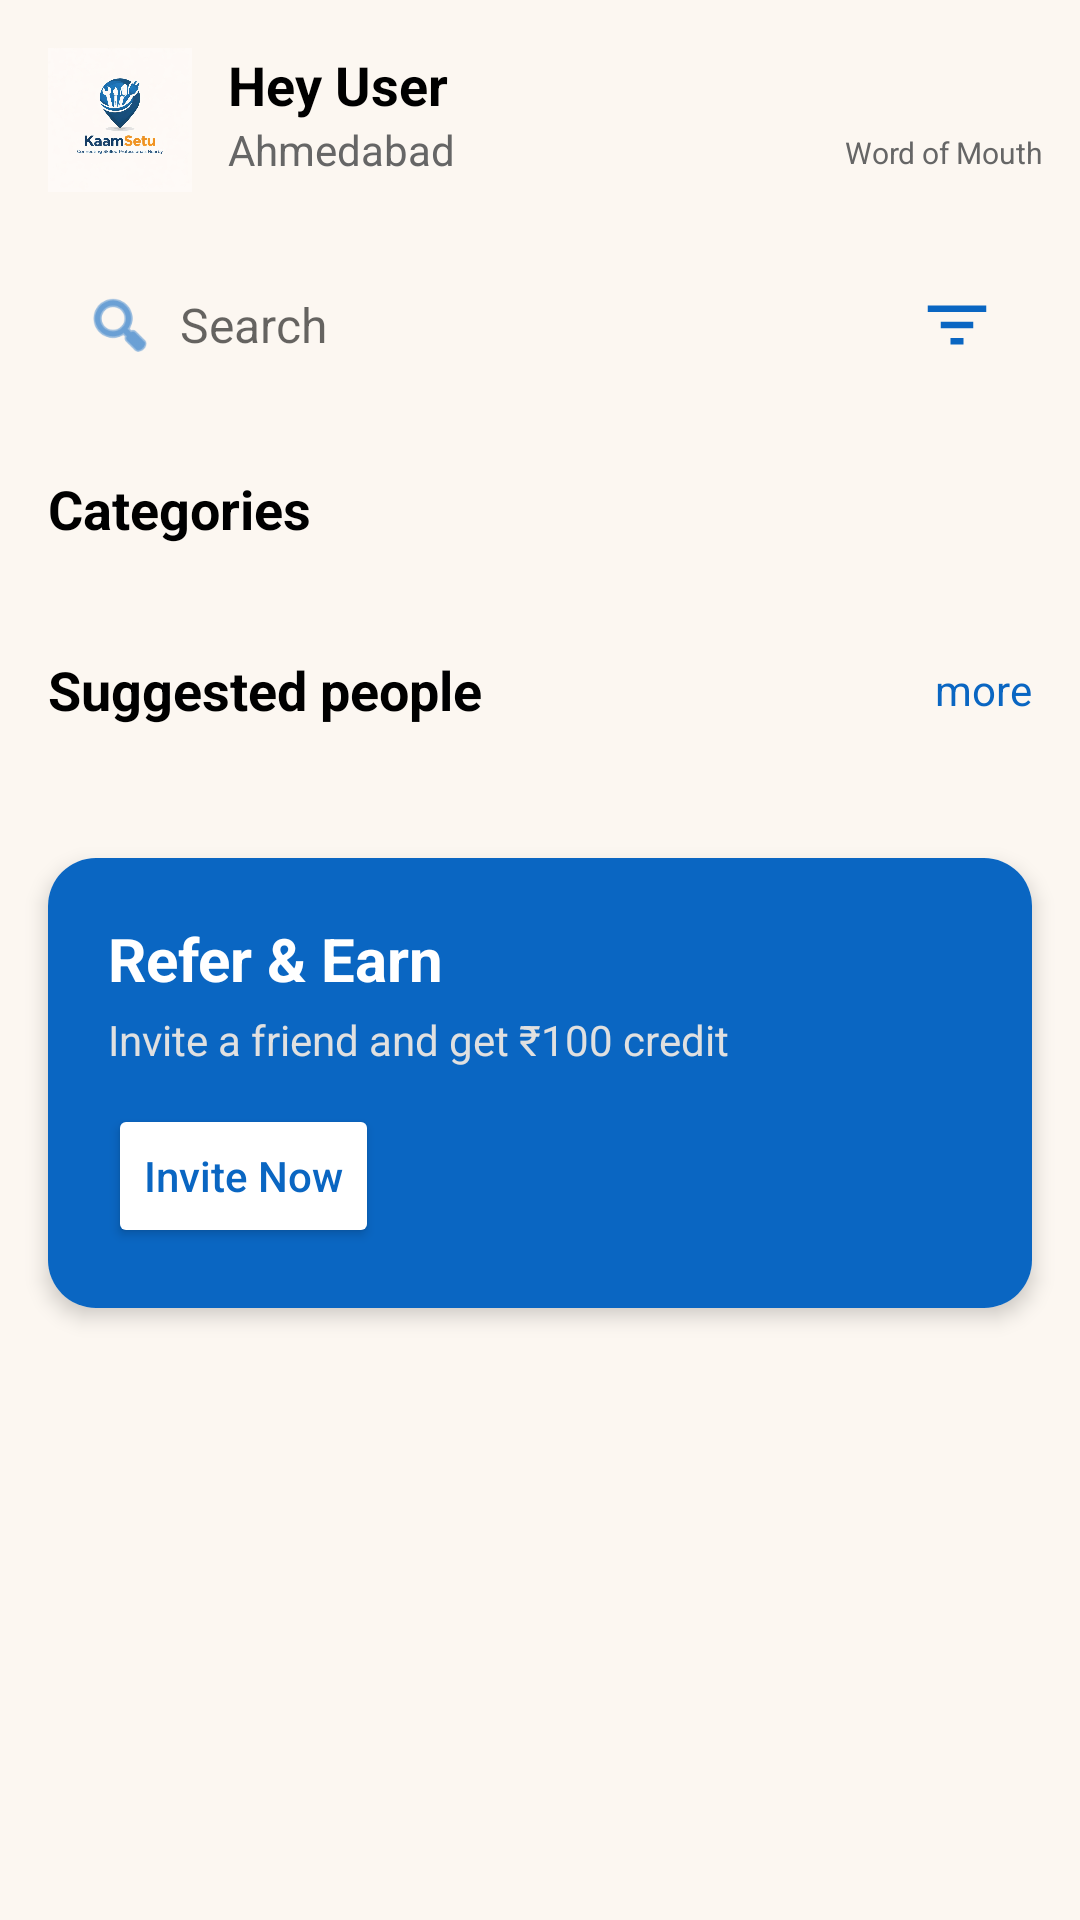

Screen size 1080px x 1920px. Icon name, then its box in pixels as bbox=[x1, y1, x2, y2]:
filter: bbox=[927, 305, 987, 345]
